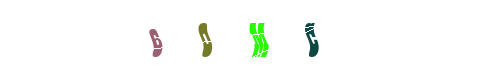6: (157, 0, 237, 80)
C: (271, 0, 351, 80)
M: (219, 0, 299, 80)
O: (210, 0, 290, 80)
